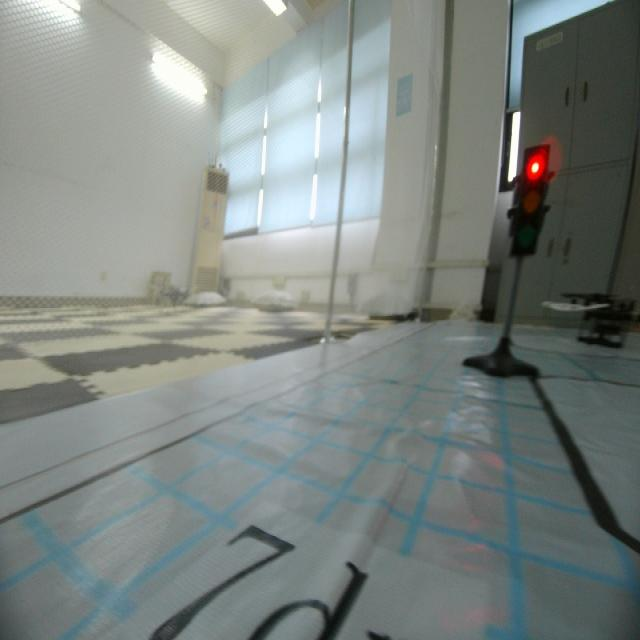red: (514, 147, 550, 260)
